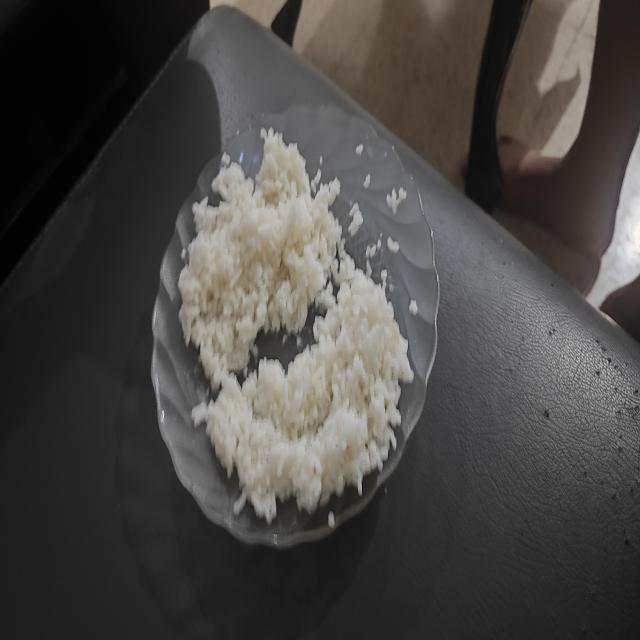nasi_putih: (192, 255, 414, 520), (179, 127, 355, 388)
